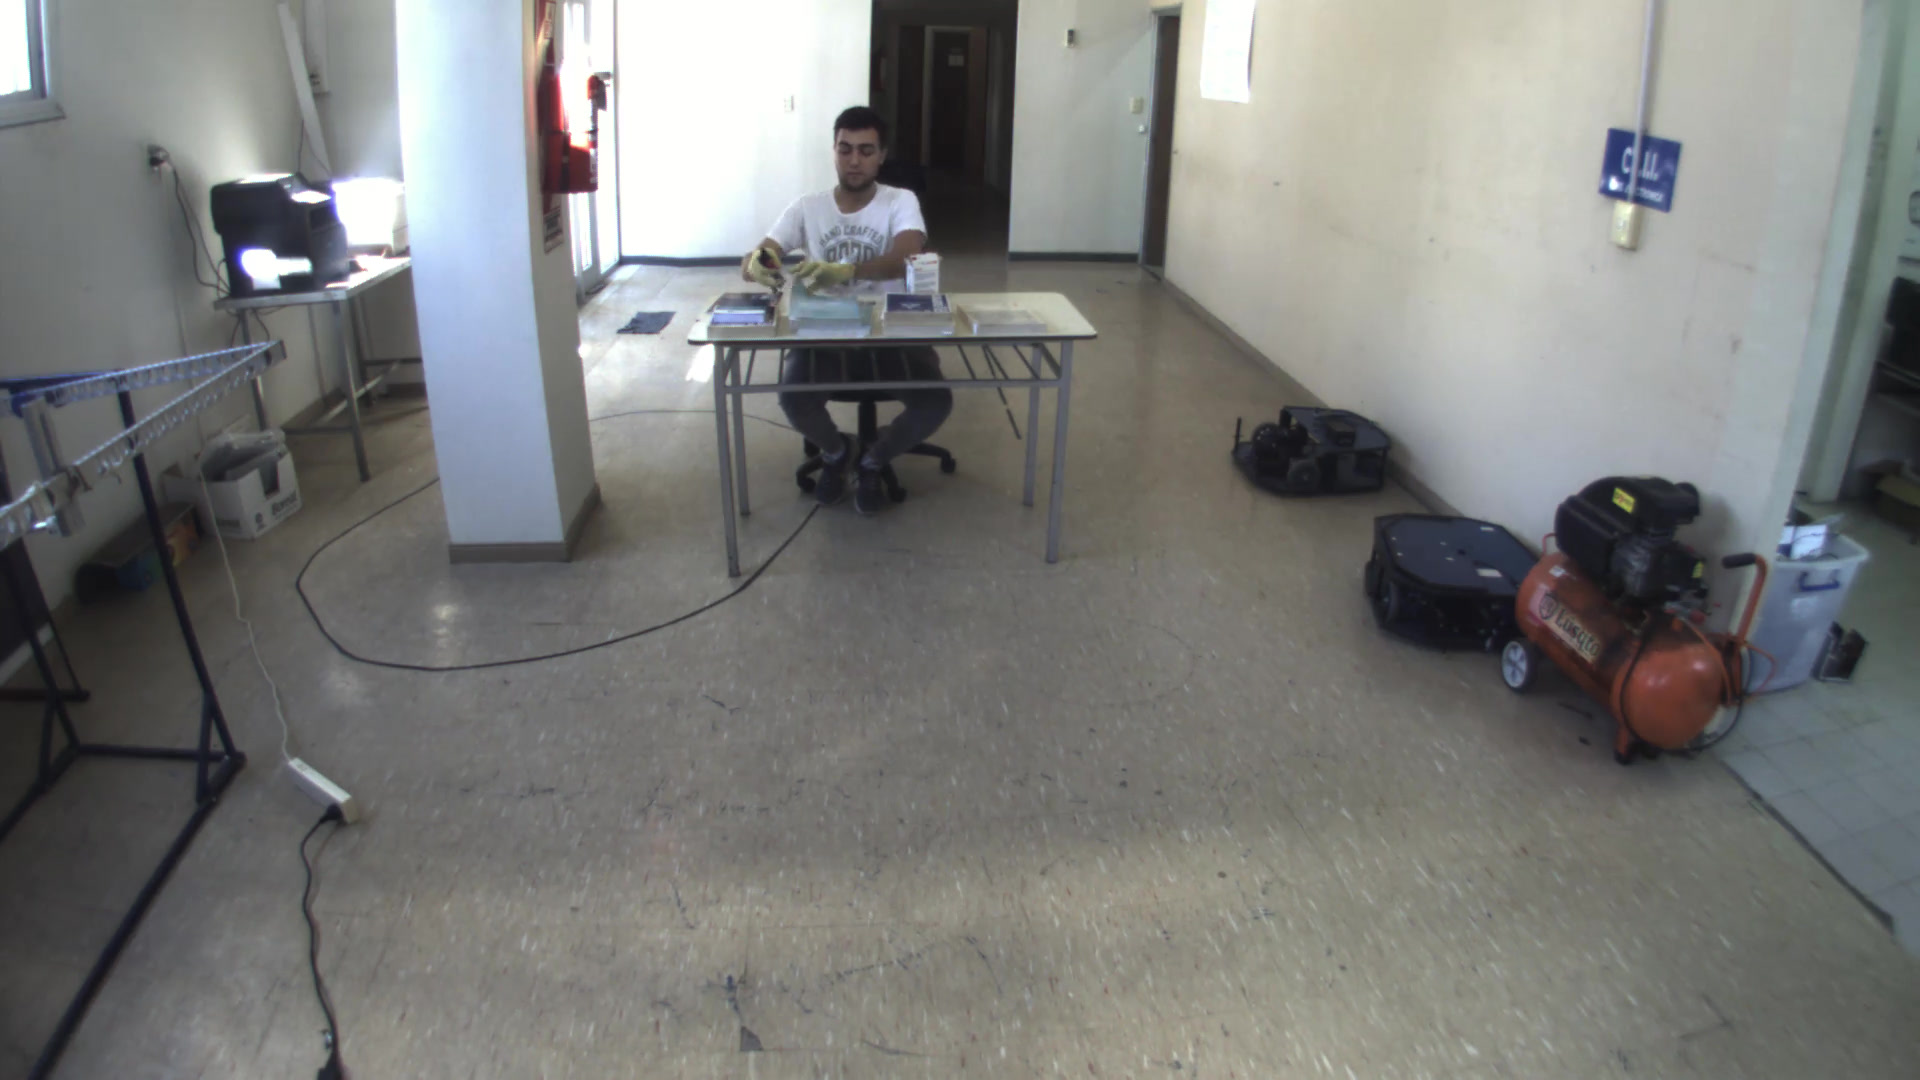hand: (791, 247, 858, 298), (741, 243, 791, 297)
